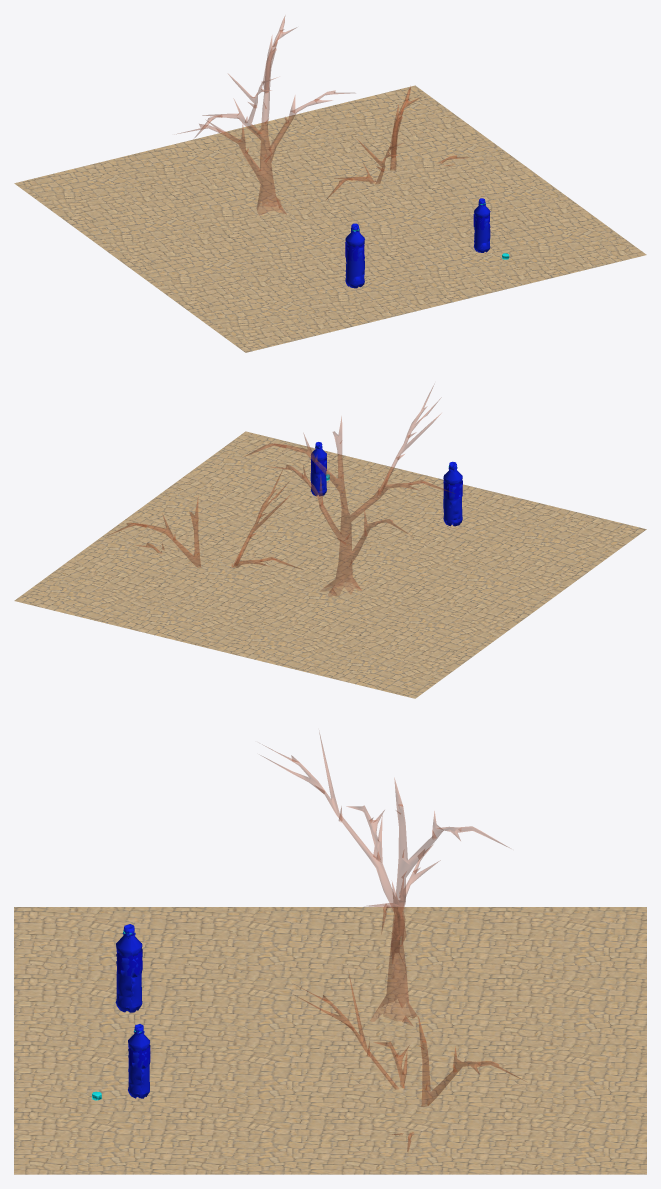
File: desert3d.glb
3 views of the same model, one above another, from view 1: azimuth 30°, elevation 25°; view 2: azimuth 150°, elevation 25°; view 3: azimuth 270°, elevation 25° (orthographic). The views are drawn at different scales.
Parts seen in each view (by area): view 1: Desert, Tree2, Bottle_Circle.lid.001, Tree1, Bottle_Circle.lid.002; view 2: Desert, Tree2, Tree1, Bottle_Circle.lid.001, Bottle_Circle.lid.002; view 3: Desert, Tree2, Tree1, Bottle_Circle.lid.001, Bottle_Circle.lid.002.
Part boxes in pixels (bbox=[...]): Desert: bbox=[14, 85, 646, 352]; Tree2: bbox=[178, 16, 350, 215]; Bottle_Circle.lid.001: bbox=[345, 223, 364, 288]; Tree1: bbox=[326, 86, 468, 199]; Bottle_Circle.lid.002: bbox=[473, 198, 490, 252]; Desert: bbox=[14, 431, 646, 698]; Tree2: bbox=[244, 386, 454, 596]; Tree1: bbox=[109, 470, 300, 568]; Bottle_Circle.lid.001: bbox=[443, 461, 462, 526]; Bottle_Circle.lid.002: bbox=[310, 442, 326, 496]; Desert: bbox=[14, 907, 646, 1174]; Tree2: bbox=[262, 733, 509, 1026]; Tree1: bbox=[298, 975, 522, 1151]; Bottle_Circle.lid.001: bbox=[115, 924, 142, 1012]; Bottle_Circle.lid.002: bbox=[128, 1024, 150, 1098].
Size of the model in its own units: 7 by 3.16 by 7.
11 materials, 1 textured.
